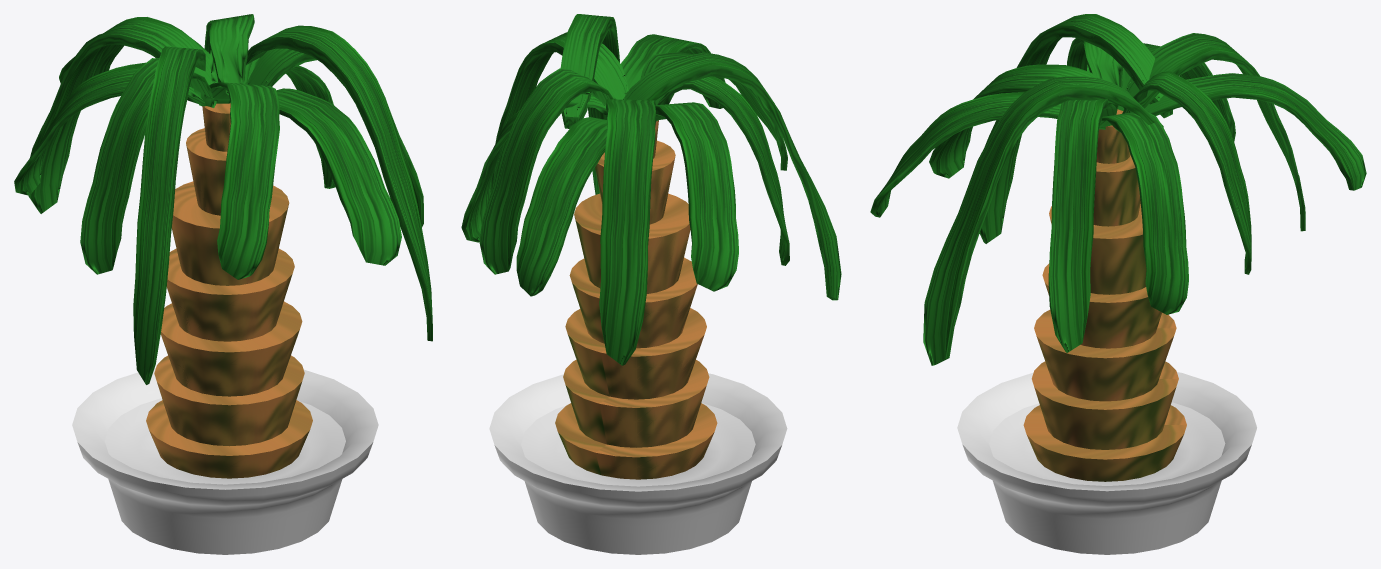
The model's file is Tree_in_pot.FBX.
3 views of the same model, side by side, from view 1: azimuth 30°, elevation 25°; view 2: azimuth 150°, elevation 25°; view 3: azimuth 270°, elevation 25° (orthographic). The views are drawn at different scales.
Visible parts, largest first — view 1: Cone008, Box010, Box004, Box013, Box003, Box011, Cone001, Cone006, Cone002, Box007, Cone007, Cone009 (+8 smaller); view 2: Cone008, Box007, Box006, Box012, Box005, Cone006, Cone001, Box010, Cone009, Cone007, Cone003, Cone002 (+7 smaller); view 3: Cone008, Box013, Box008, Box009, Cone006, Cone001, Cone007, Box010, Cone009, Box005, Box012, Box007 (+8 smaller).
Boxes of the visible parts, x1,y1,x2,y2 form: Cone008: (72,367,378,554); Box010: (133,46,205,384); Box004: (204,82,279,279); Box013: (246,25,432,341); Box003: (276,88,401,265); Box011: (80,58,217,274); Cone001: (160,301,302,396); Cone006: (154,355,304,446); Cone002: (166,248,294,341); Box007: (28,17,214,213); Cone007: (146,400,312,478); Cone009: (104,398,345,484); Cone008: (489,373,787,554); Box007: (599,99,656,365); Box006: (655,102,738,291); Box012: (479,68,613,274); Box005: (516,117,607,296); Cone006: (563,359,709,447); Cone001: (565,308,706,399); Box010: (623,52,841,300); Cone009: (521,403,755,486); Cone007: (555,403,717,479); Cone003: (574,193,690,293); Cone002: (569,257,697,348); Cone008: (957,372,1256,554); Box013: (923,76,1163,365); Box008: (1048,99,1117,352); Box009: (1099,112,1188,314); Cone006: (1031,361,1178,449); Cone001: (1034,309,1176,401); Cone007: (1023,405,1186,481); Box010: (979,14,1172,243); Cone009: (989,402,1225,485); Box005: (1145,73,1366,190); Box012: (1122,71,1251,274); Box007: (1123,33,1305,231).
Size of the model in its own units: 72.02 by 98.81 by 96.13.
